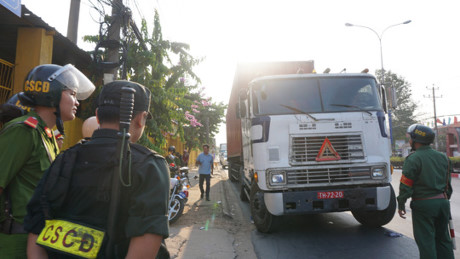plate: (315, 189, 343, 198)
